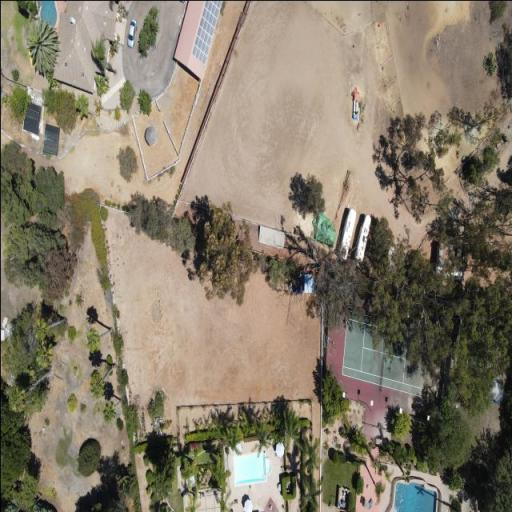solar-panel: (191, 0, 221, 65)
